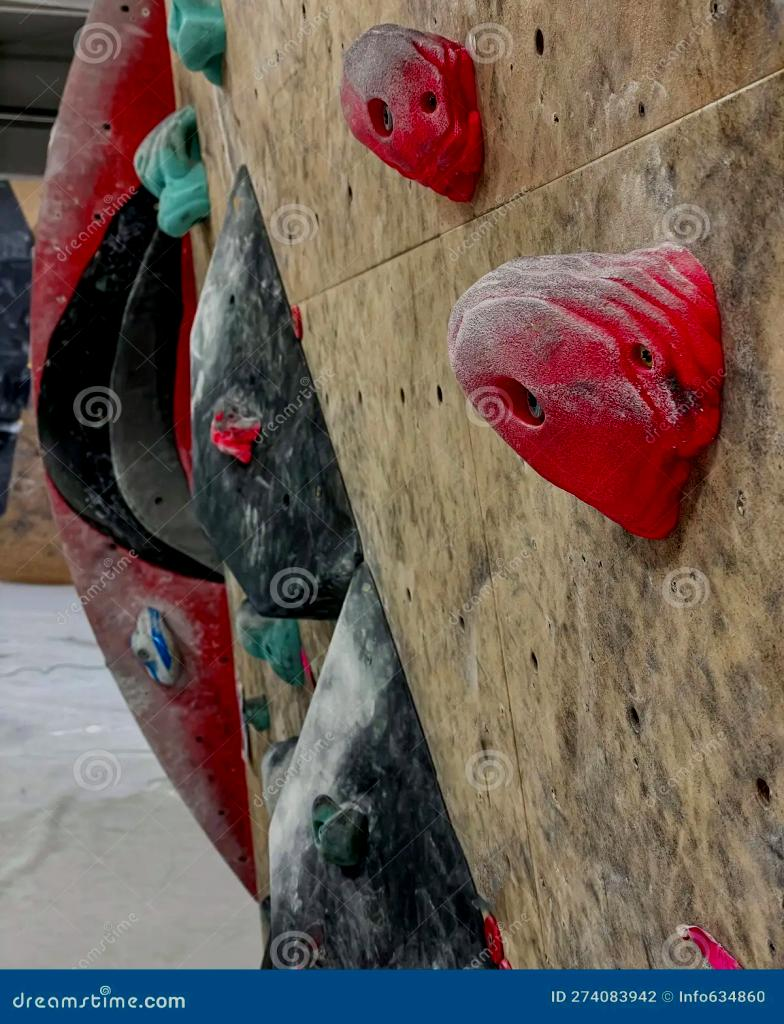jug: (448, 245, 723, 539), (340, 24, 483, 201)
